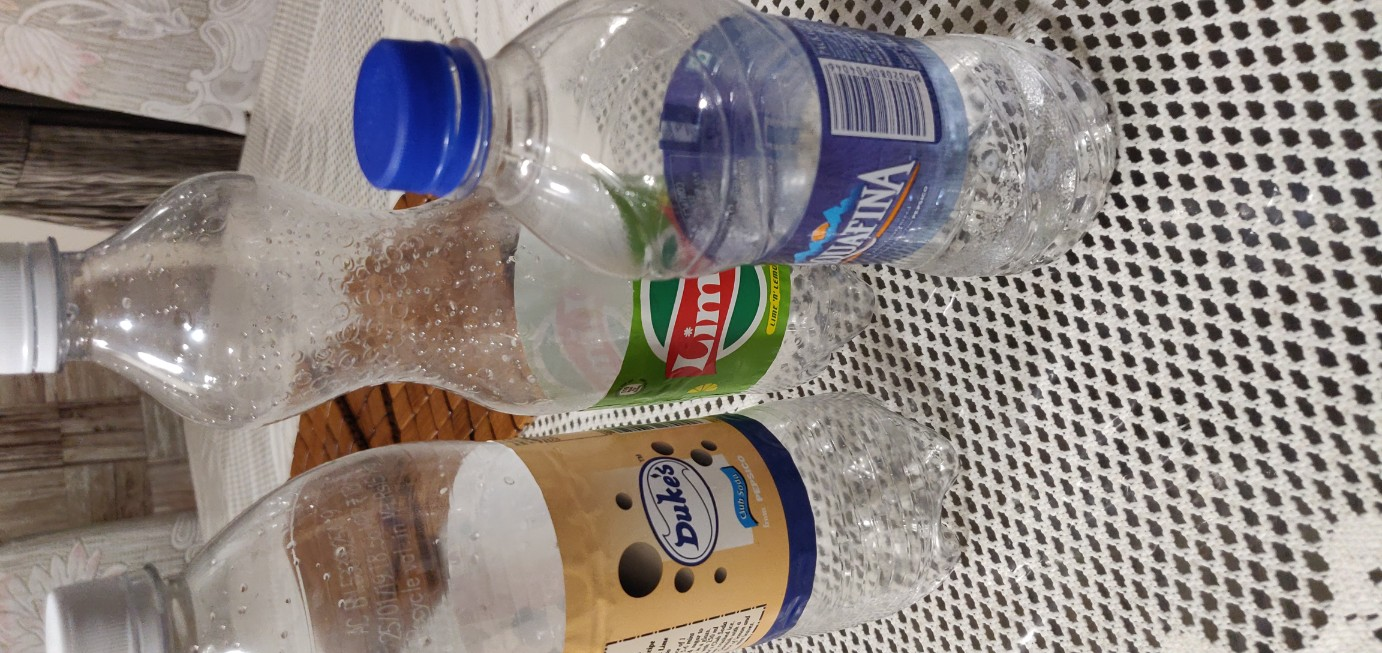Electronics: (1, 148, 947, 447), (24, 379, 992, 653), (337, 4, 1166, 315)
